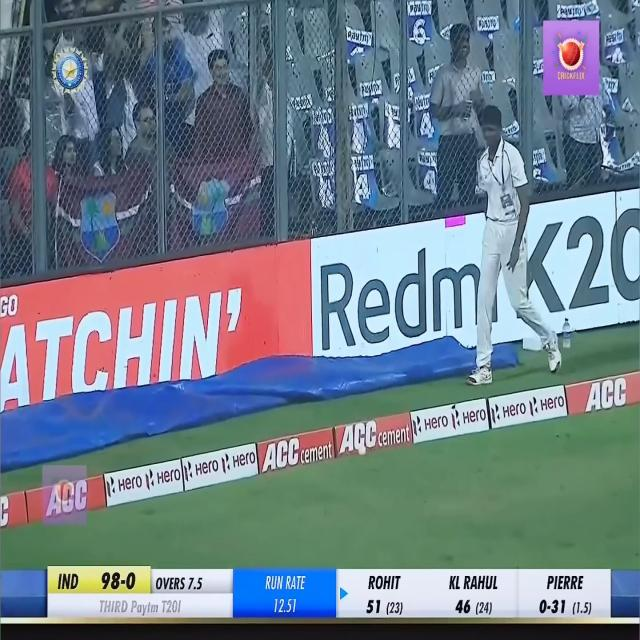partially_visible: (346, 23, 371, 47), (477, 14, 505, 34), (407, 0, 432, 17)
